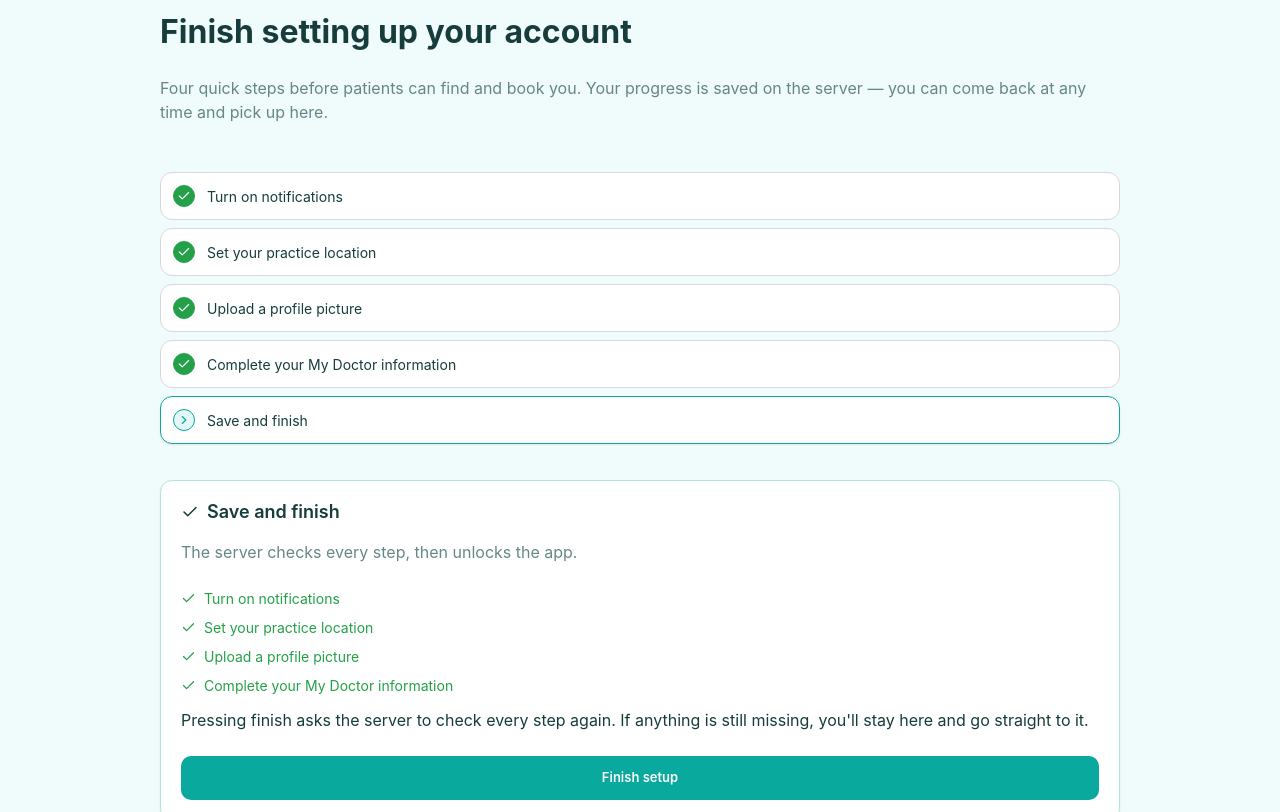
it: doctor onboarding — completion › keeps the doctor in the flow and names the step the server refused
Click the button "Finish setup" at (640, 778), box [181, 756, 1099, 800]
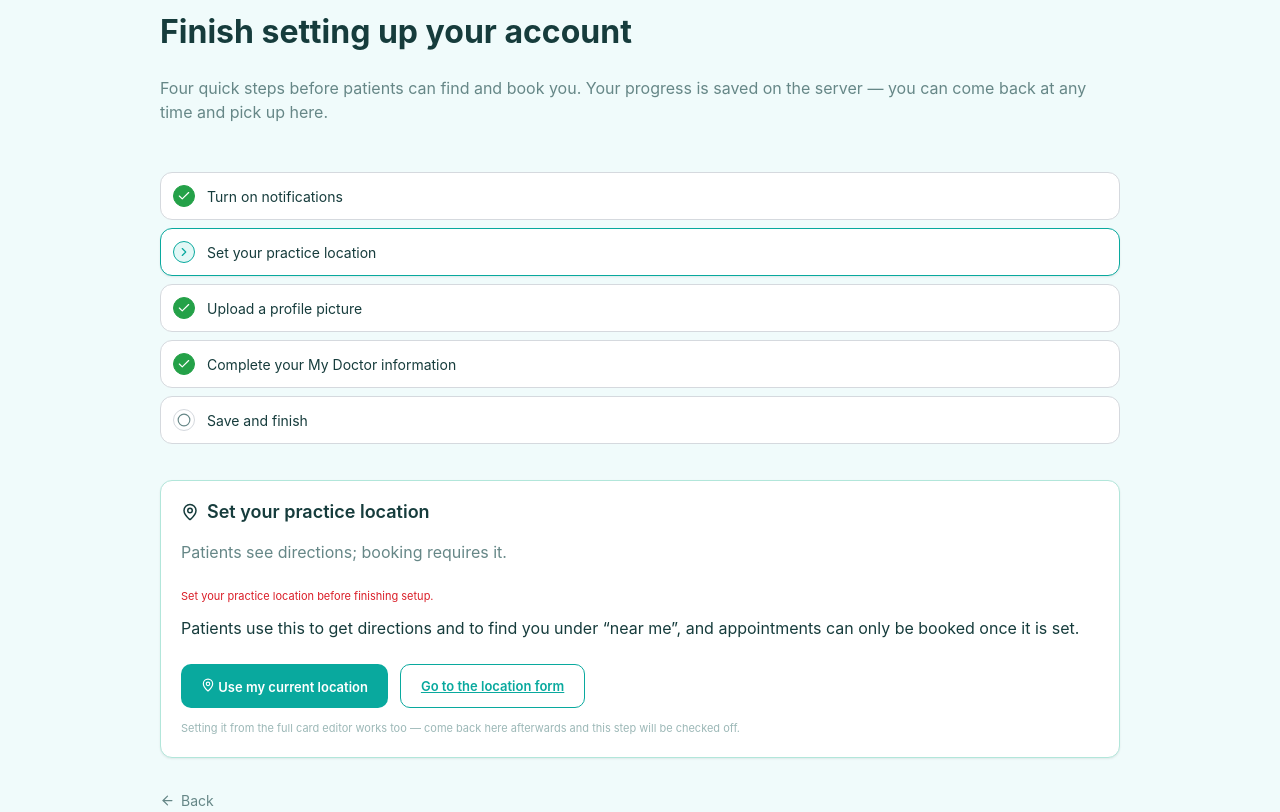
Expected: the heading "Set your practice location" is shown, [181, 501, 430, 522]
Expected: the message reads "Set your practice location before finishing setup.", [181, 588, 434, 602]
